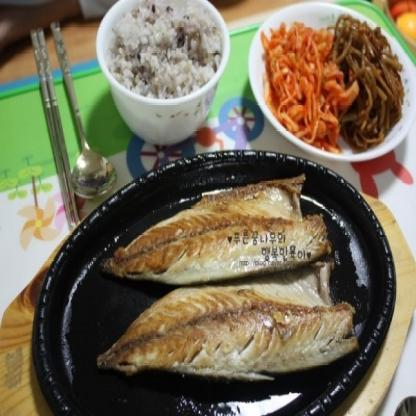Peixe: (92, 157, 346, 398)
